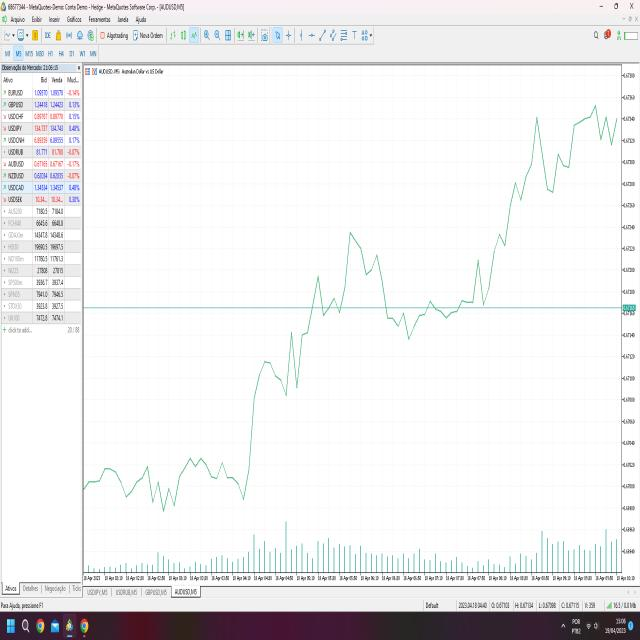oco_inv: (146, 470, 185, 520)
